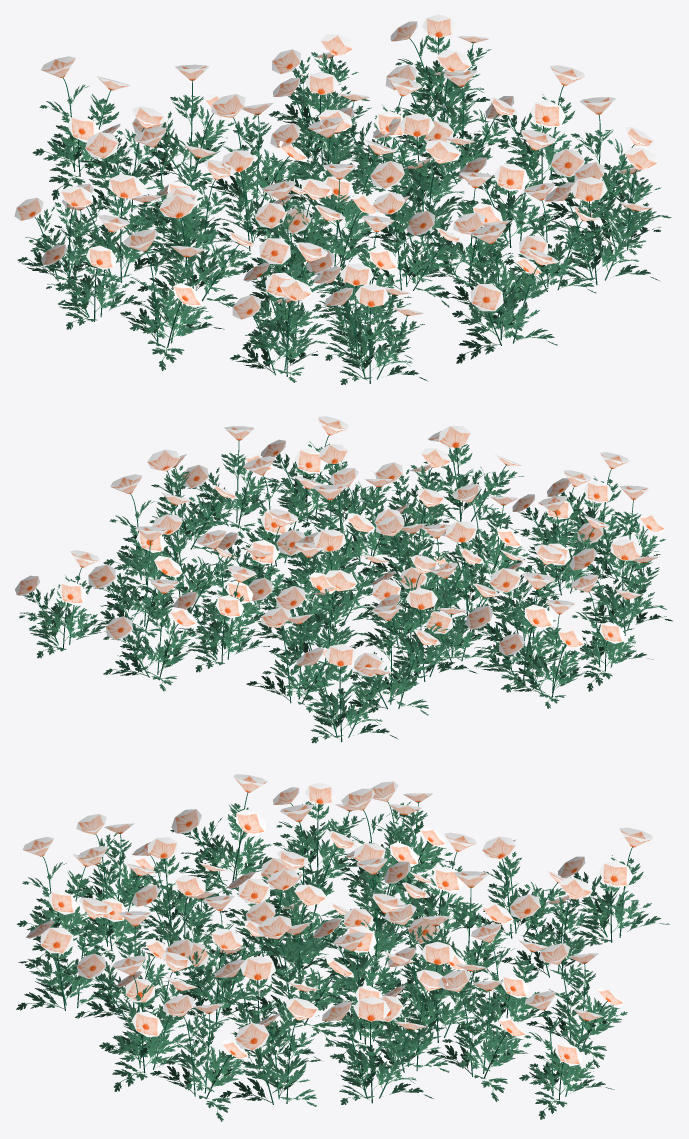
Rendered from flower.fbx.
The picture shows the model from 3 angles, top to bottom: view 1: azimuth 30°, elevation 25°; view 2: azimuth 150°, elevation 25°; view 3: azimuth 270°, elevation 25°; orthographic projection. The views are drawn at different scales.
Parts seen in each view (by area): view 1: Tree_1, Tree_0, Tree_2; view 2: Tree_1, Tree_0, Tree_2; view 3: Tree_1, Tree_0, Tree_2.
Part boxes in pixels (x1,y1,x2,y2): Tree_1: (17,35,671,384); Tree_0: (14,14,658,319); Tree_2: (34,37,637,383); Tree_1: (19,441,672,743); Tree_0: (15,416,665,676); Tree_2: (32,435,648,742); Tree_1: (16,801,669,1121); Tree_0: (22,774,652,1065); Tree_2: (42,792,633,1104).
Bounding box in the file's own units: 4.29 × 4.42 × 0.8324.
3 materials, 3 textured.
